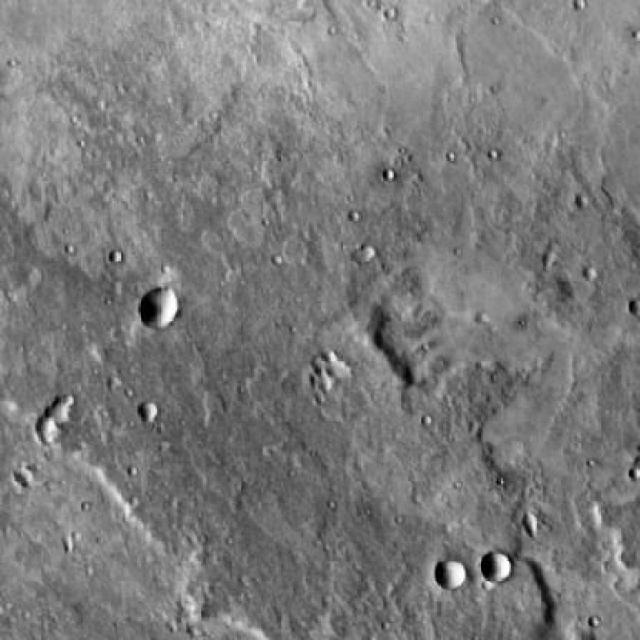crater: (144, 288, 182, 327), (436, 552, 466, 588), (482, 551, 509, 578), (41, 412, 64, 436), (18, 460, 38, 480), (54, 398, 74, 418), (137, 401, 155, 419)
